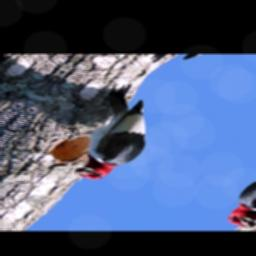Woodpecker: (24, 78, 195, 191)
